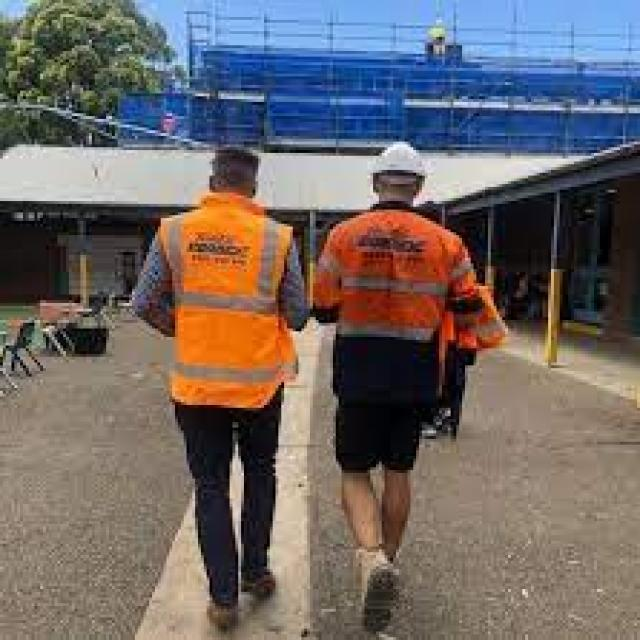Reflective-Jacket: (146, 193, 302, 419), (313, 204, 485, 371)
Safety-Helmet: (356, 130, 445, 190)
